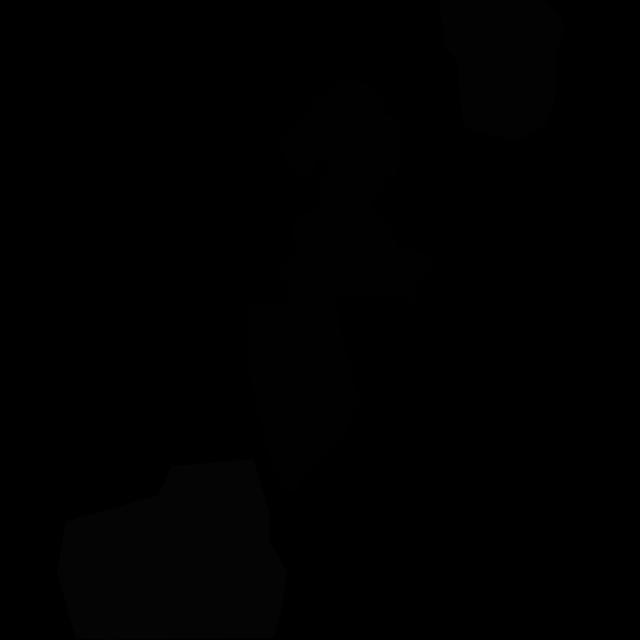cardboard: (439, 0, 564, 140)
rigid_plastic: (278, 79, 434, 306), (245, 300, 360, 492)
soft_plastic: (57, 459, 287, 640)
